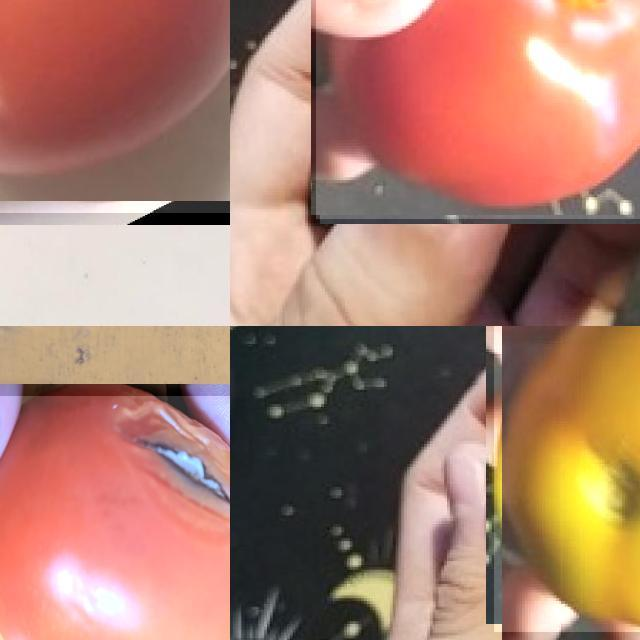Fresh Tomato: (315, 0, 640, 219), (0, 0, 230, 213)
Rotten Tomato: (0, 395, 230, 640), (494, 326, 640, 631)
